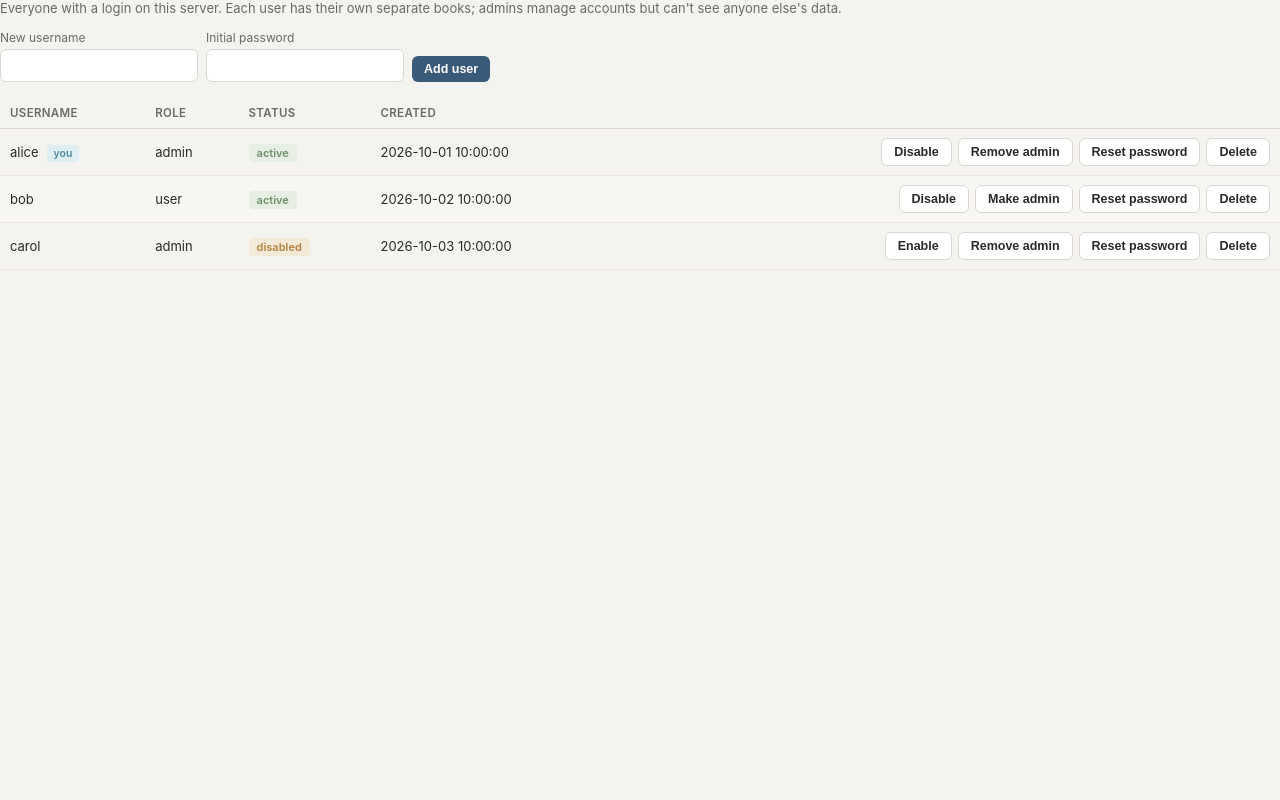
Test: keeps the reset dialog open with the reason when the server refuses
Click the button "Reset password" in the row of "bob": (1140, 199) [1079, 185, 1200, 213]
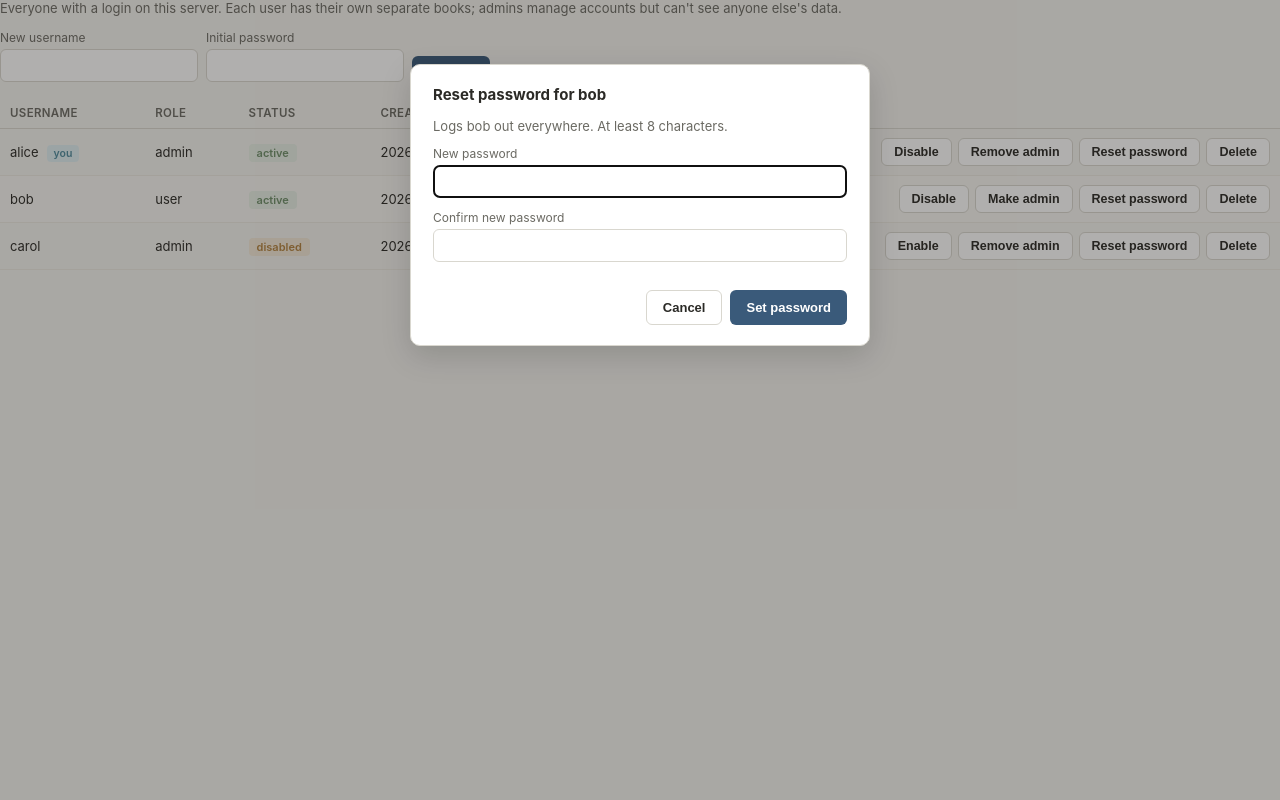
In the password field labelled "New password": (640, 182) [433, 165, 847, 198], type "short"
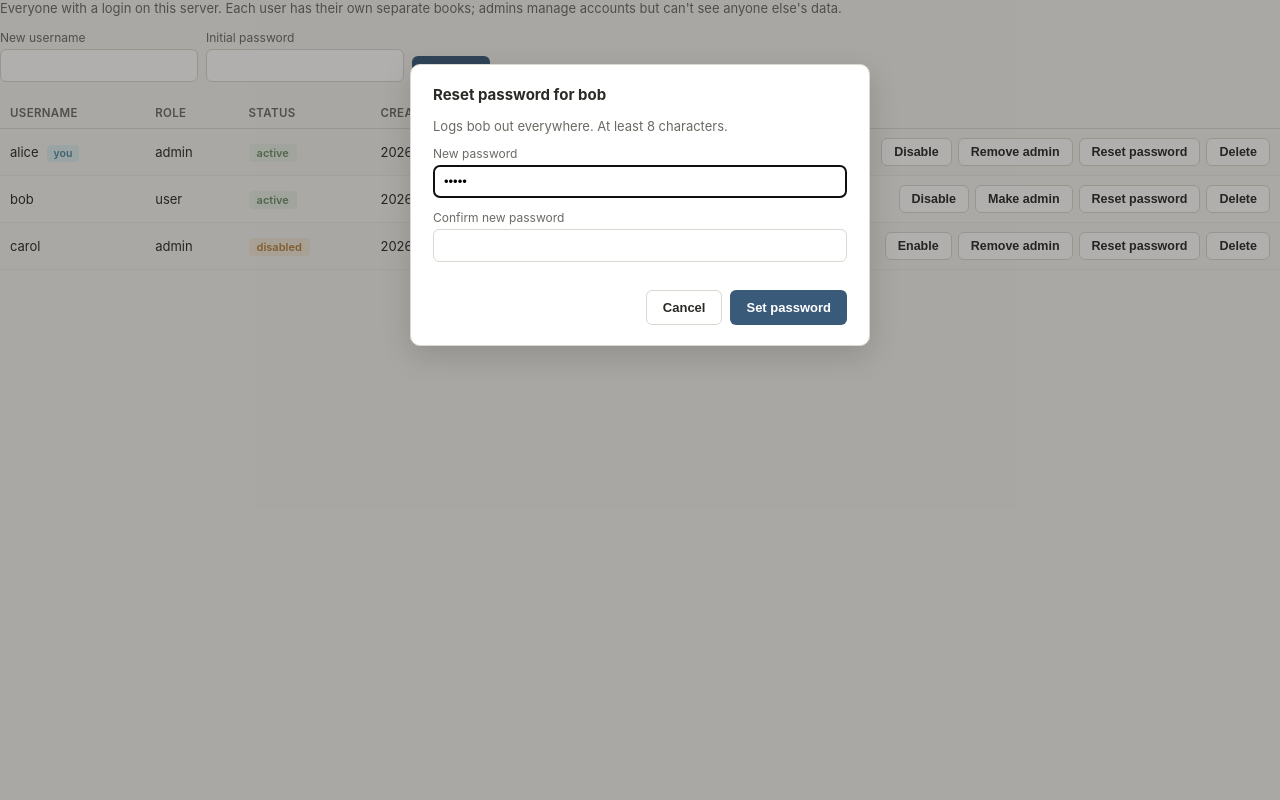
In the password field labelled "Confirm new password": (640, 246) [433, 229, 847, 262], type "short"
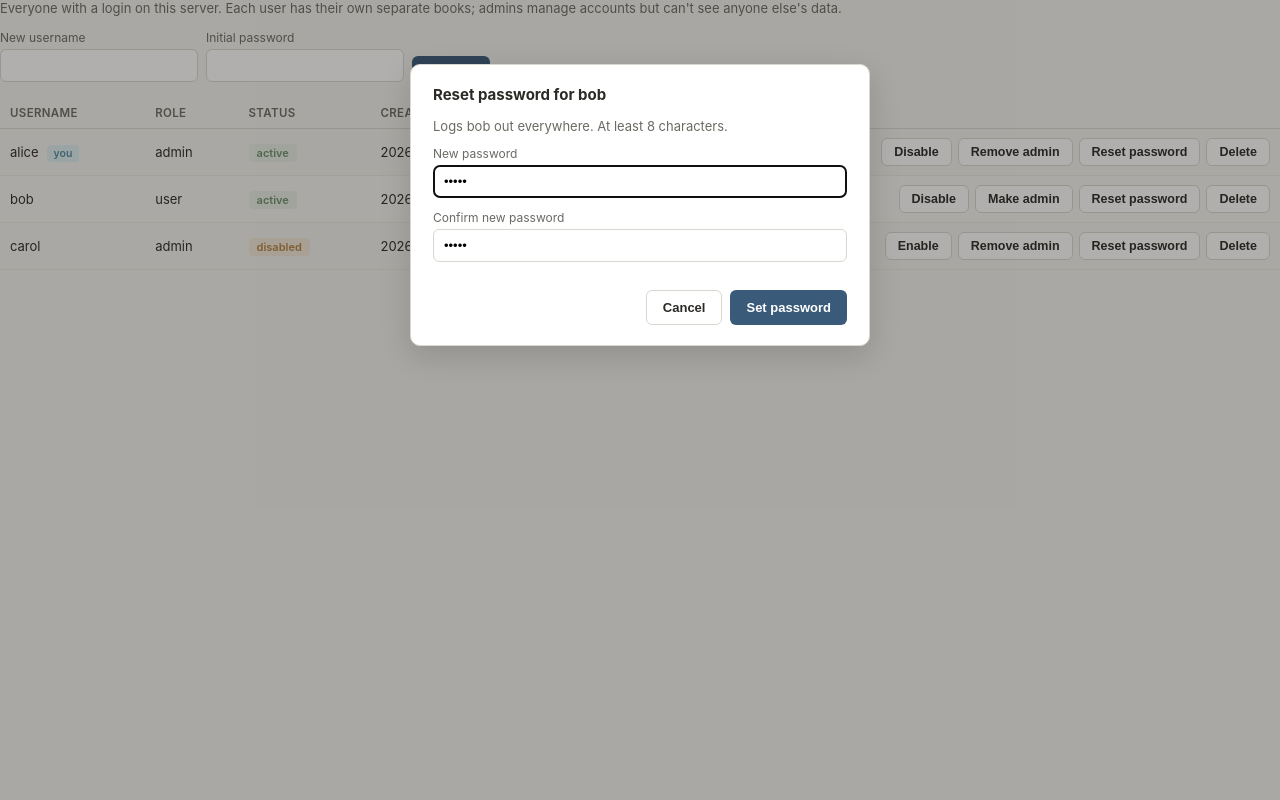
Click the button "Set password": (789, 308) [730, 290, 847, 325]
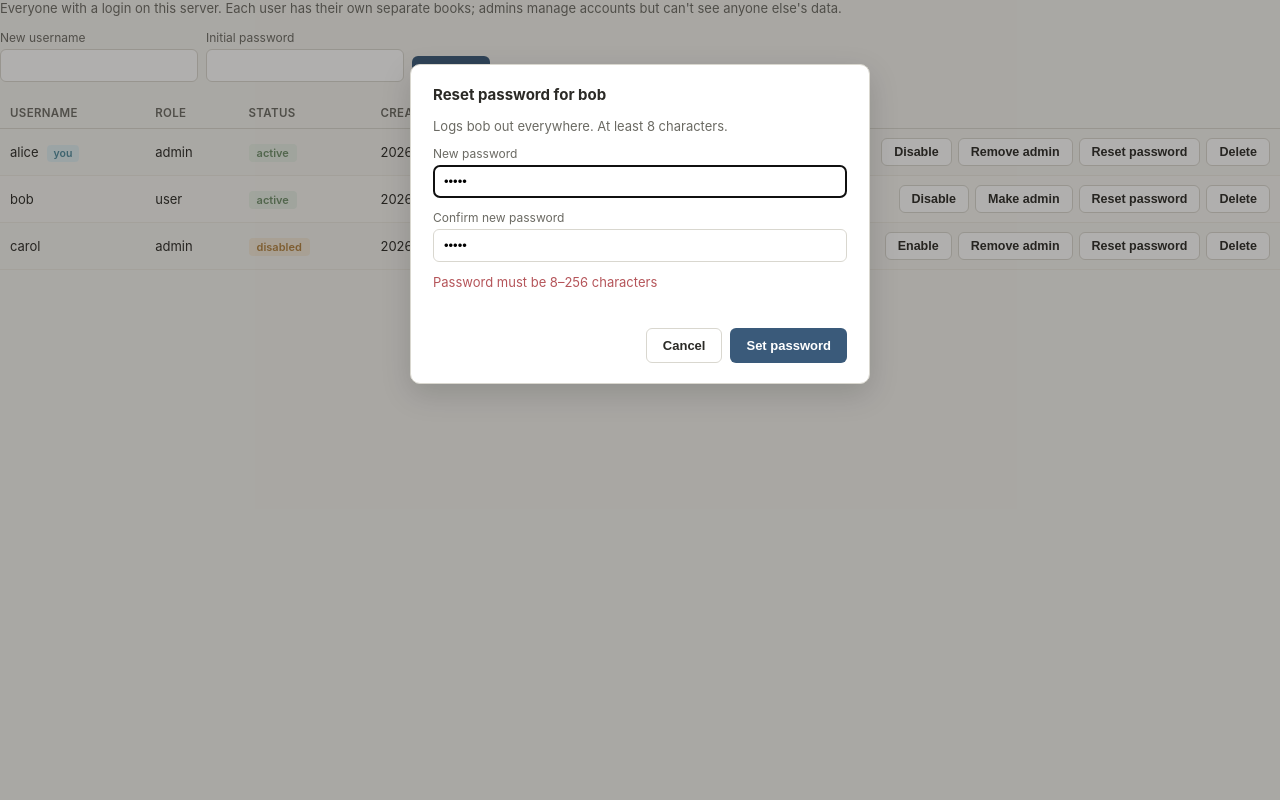
expect the heading "Reset password for bob" is shown: met, box [433, 85, 606, 104]
expect the text "Password must be 8–256 characters" is shown: met, box [433, 274, 657, 290]
